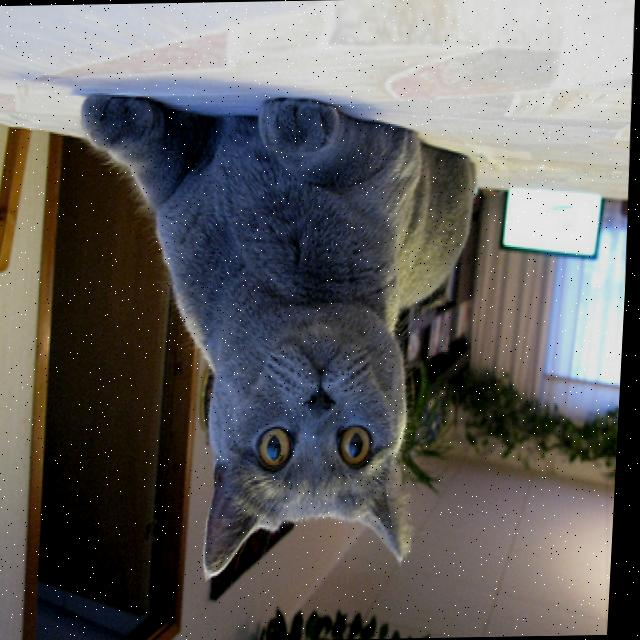British Shorthair: (61, 84, 492, 587)
